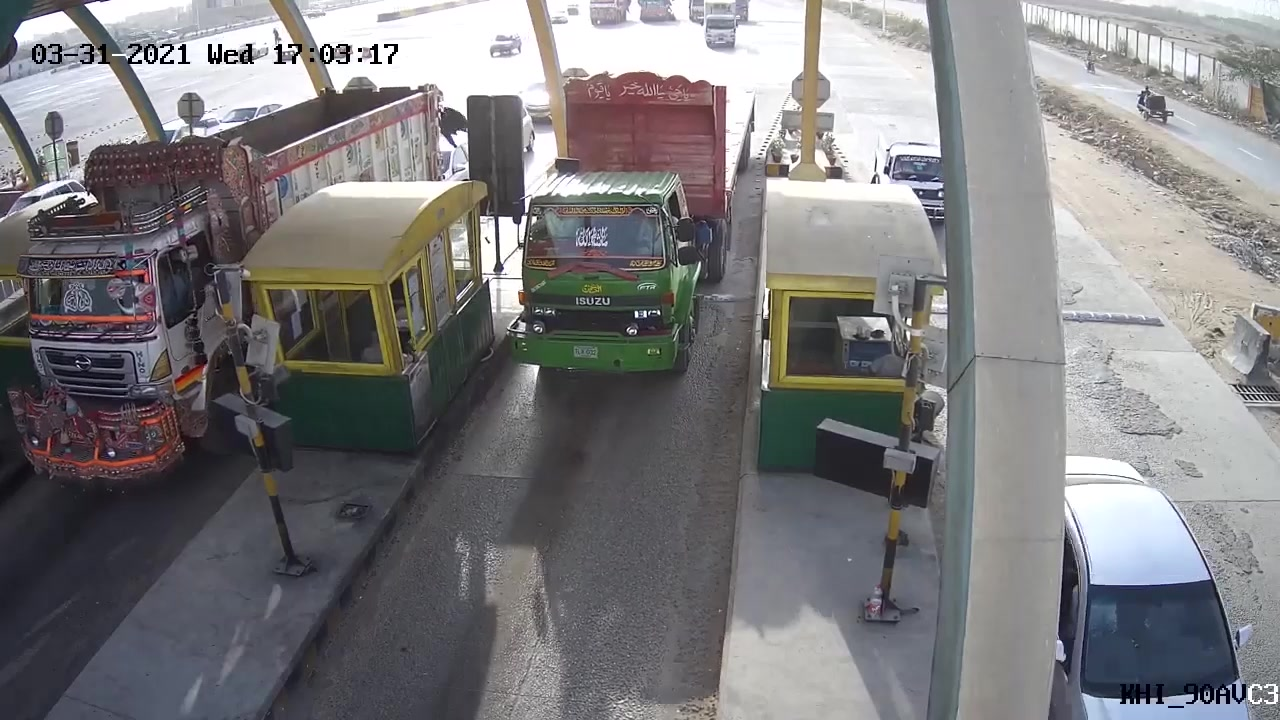F5: (509, 61, 763, 388)
